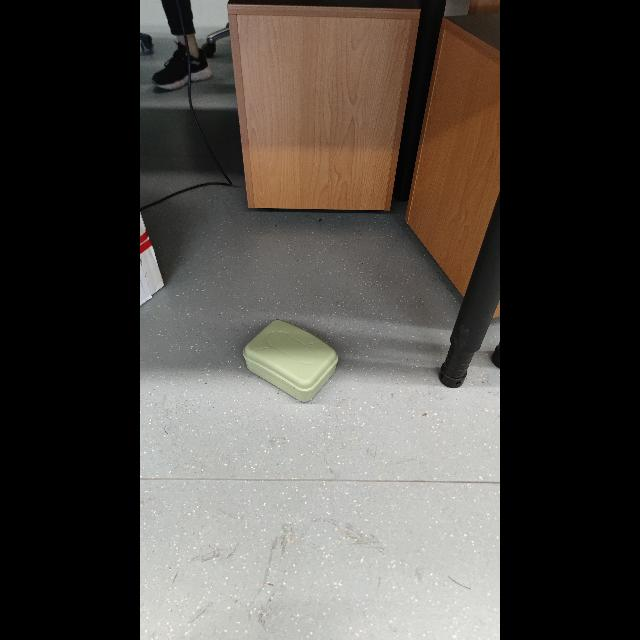cardboard_box: (224, 306, 352, 420)
